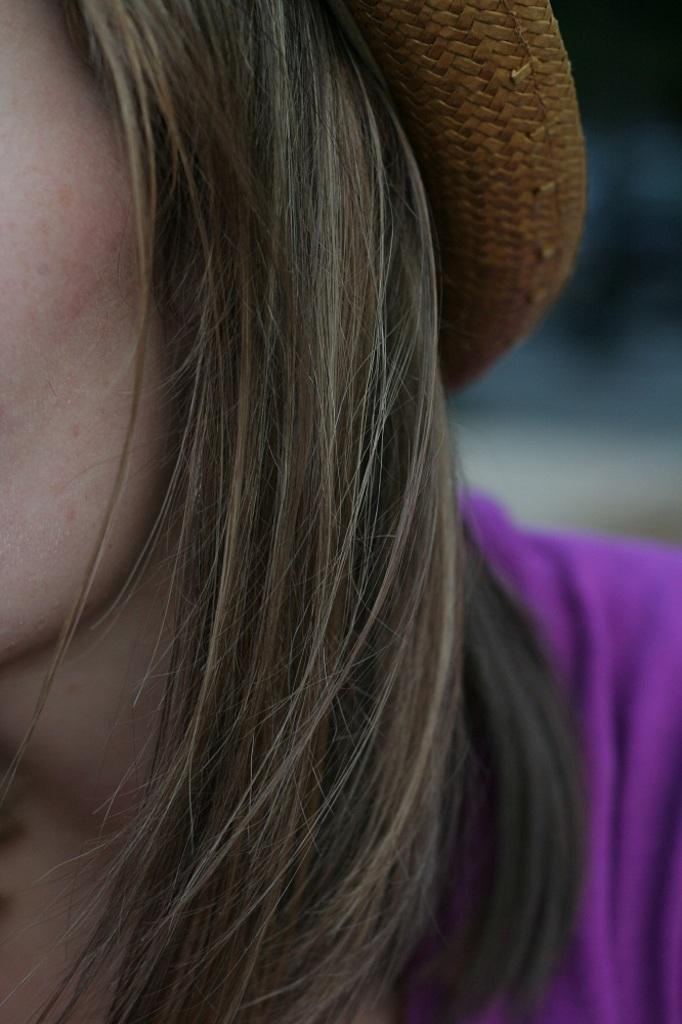Hat: (335, 0, 592, 396)
